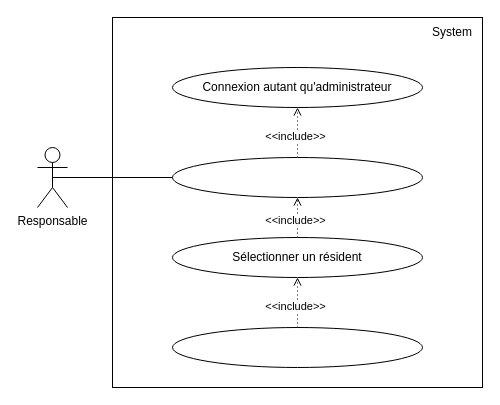
This 500x405 diagram has some shape labels left out. The box of each missing label's shape, as (x1, y1, x2, y2) in pixels:
Afficher la liste des résidents: (172, 156, 422, 198)
Cliquer sur "Supprimer": (172, 326, 422, 368)
